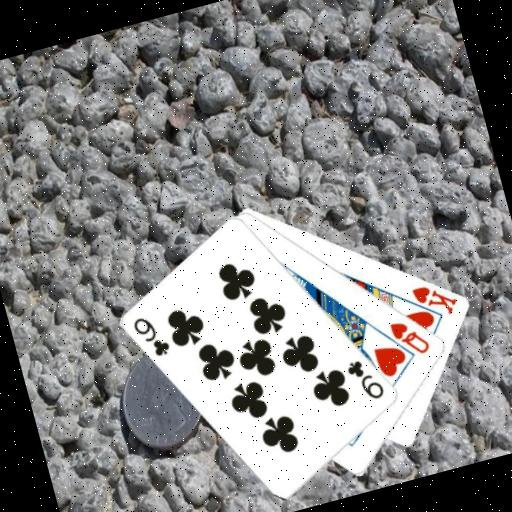9C: (342, 352, 388, 407), (128, 308, 173, 363)
KH: (407, 275, 462, 325)
QH: (386, 311, 434, 362)
